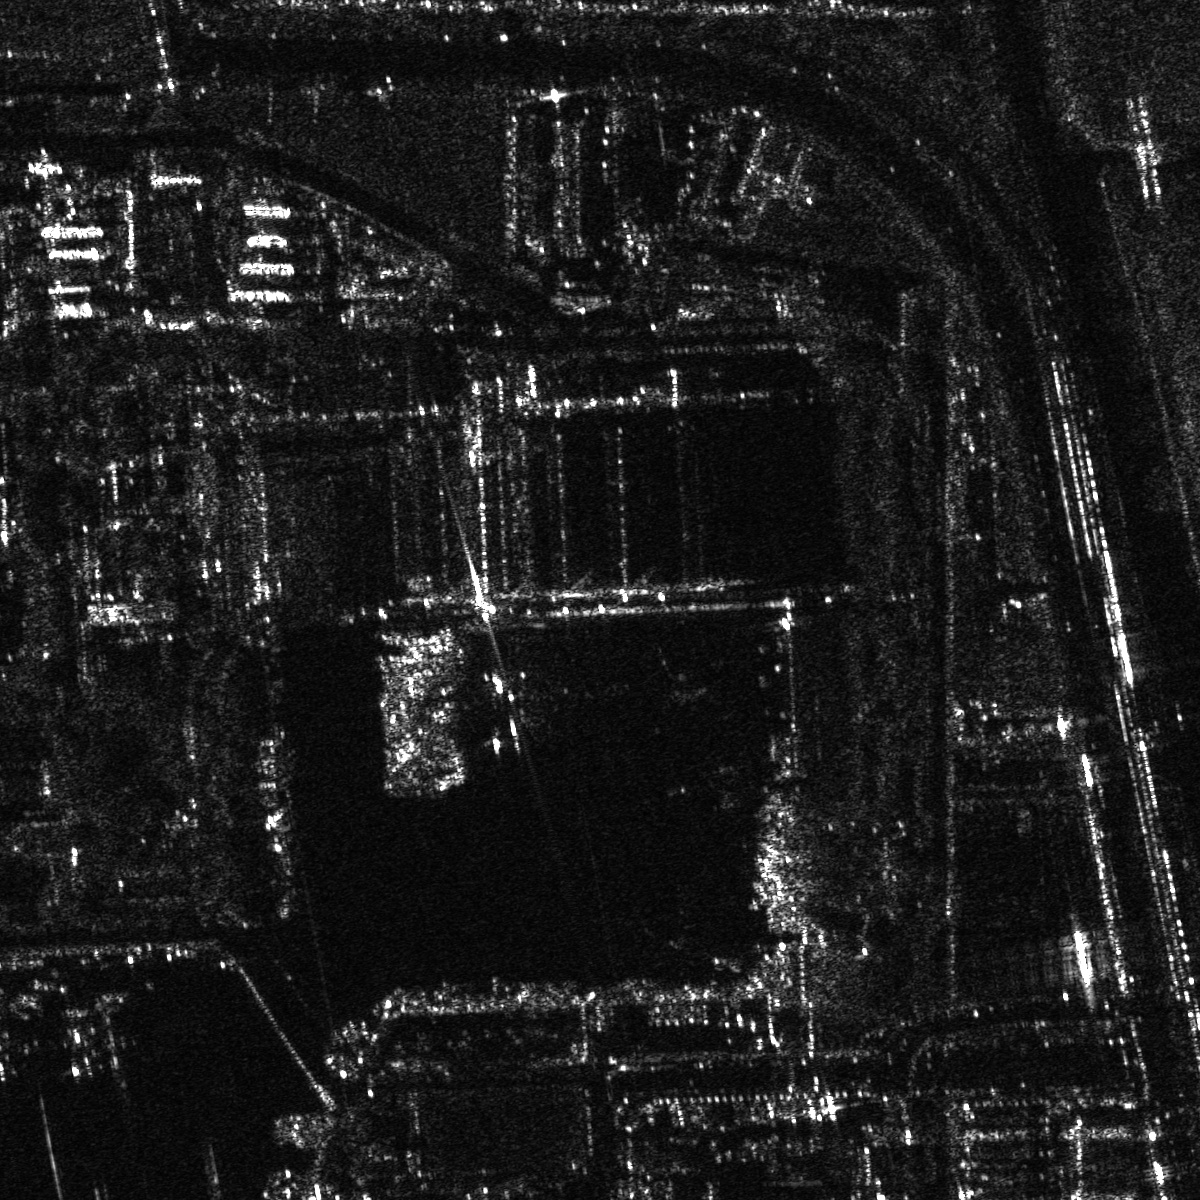Boeing737: (474, 654, 547, 762), (47, 995, 105, 1084)
